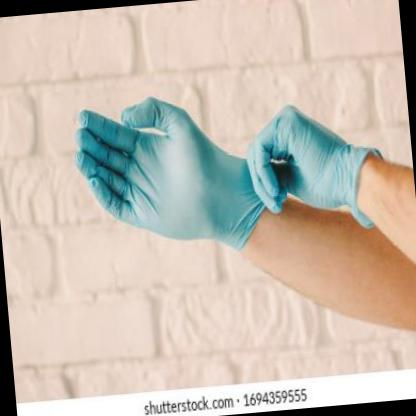Gloves: (69, 84, 272, 267), (242, 96, 390, 240)
